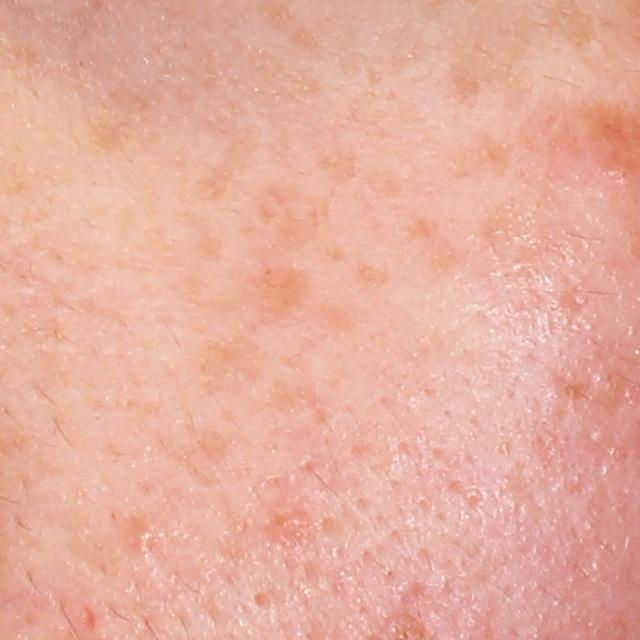comedo: (245, 589, 277, 620), (129, 523, 156, 557)
melasma: (475, 182, 571, 289), (253, 175, 349, 266), (374, 213, 479, 287), (192, 315, 275, 406), (191, 127, 269, 208), (83, 85, 158, 159), (248, 257, 310, 331), (440, 126, 521, 182), (305, 143, 358, 197), (366, 166, 418, 201), (349, 255, 393, 293)
